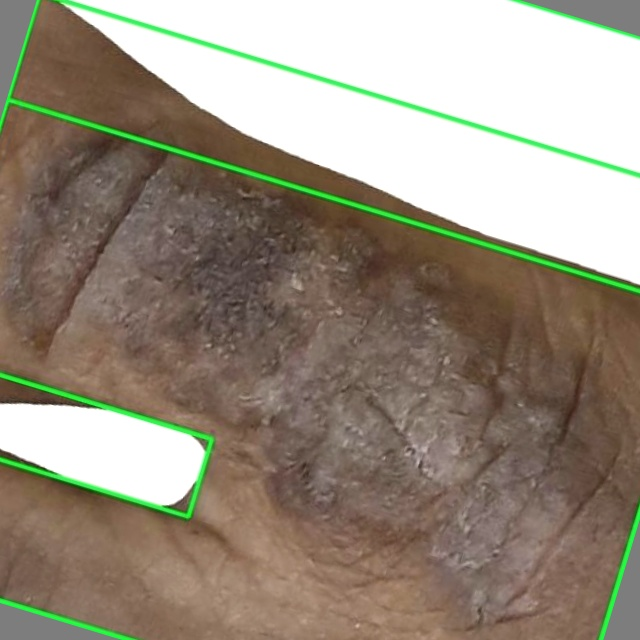Contact Dermatitis: (0, 0, 639, 639), (7, 0, 639, 290), (0, 374, 211, 516)
